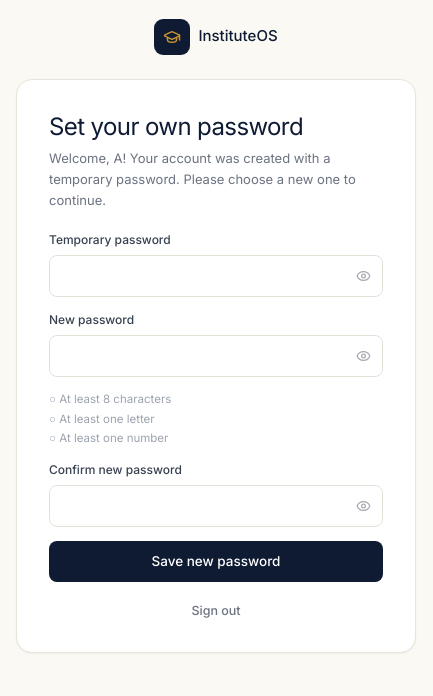
Test: temporary password › checks the password rule before calling the API
This screenshot has width=433, height=696.
Type "Temp12345" into the password field labelled "Temporary password". click: (216, 276)
box: [49,255,383,297]
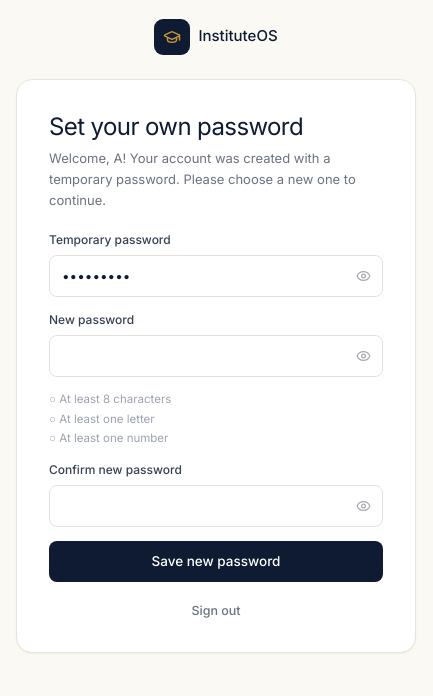
Type "short" into the password field labelled "New password". click: (216, 356)
box: [49,335,383,378]
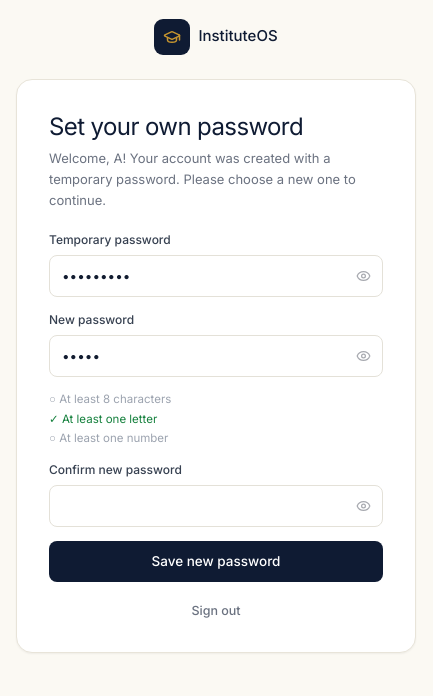
Type "short" into the password field labelled "Confirm new password". click: (216, 506)
box: [49,485,383,528]
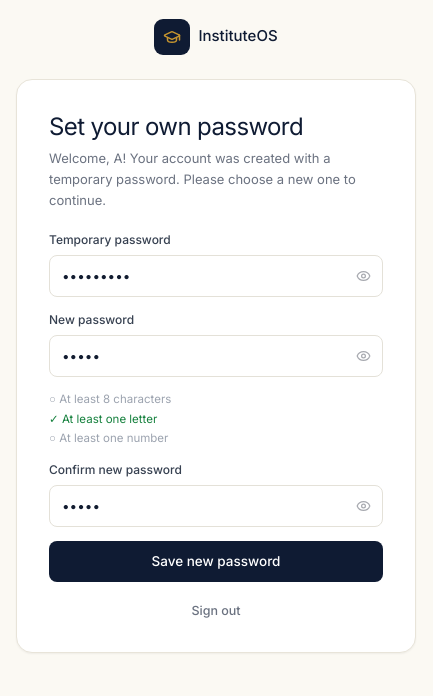
Click the button "Save new password". click: (216, 562)
box: [49,541,383,582]
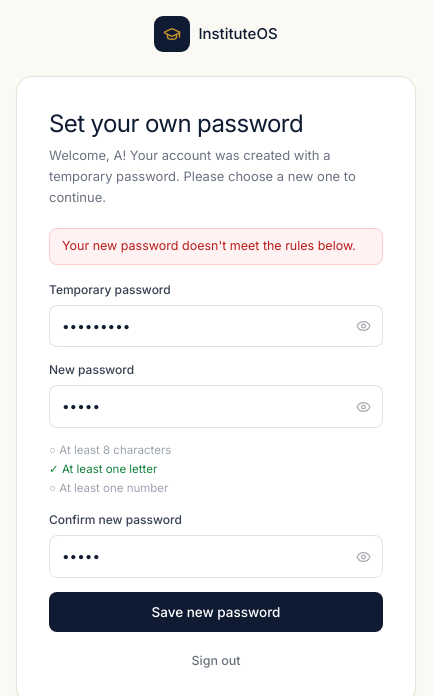
Expected: the message shows "doesn't meet the rules", [62,238,356,253]
